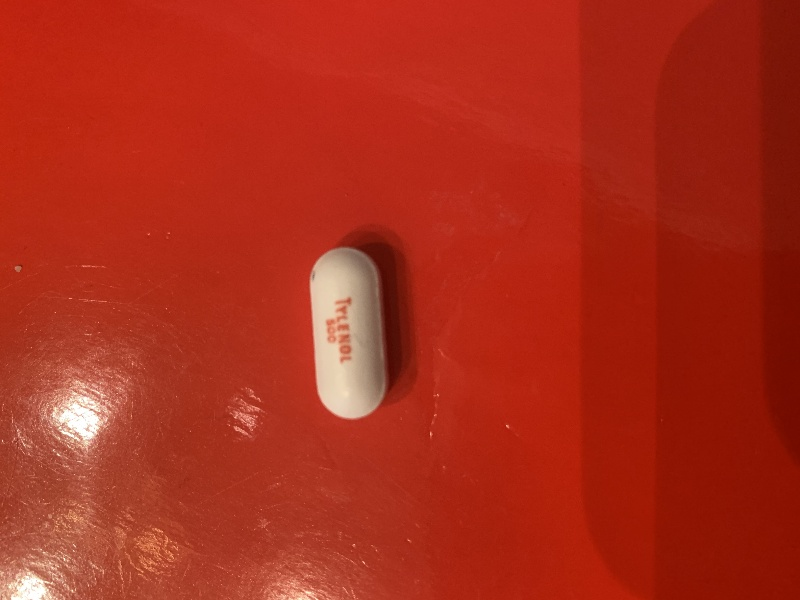Tylenol: (303, 242, 392, 425)
